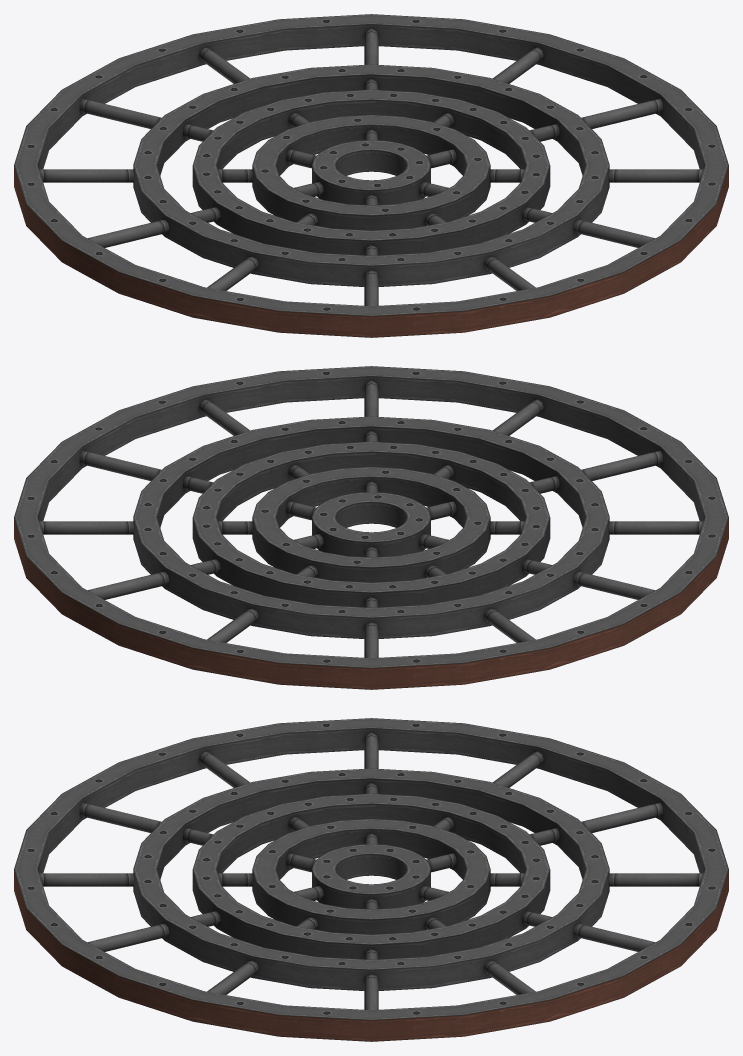
The model's file is canopus_fairing_s3_1.obj.
The picture shows the model from 3 angles, top to bottom: view 1: azimuth 30°, elevation 25°; view 2: azimuth 150°, elevation 25°; view 3: azimuth 270°, elevation 25°; orthographic projection.
Parts seen in each view (by area): view 1: mesh1; view 2: mesh1; view 3: mesh1.
Part boxes in pixels (left/top/right/bottom): mesh1: left=14, top=14, right=728, bottom=337; mesh1: left=14, top=366, right=728, bottom=689; mesh1: left=14, top=718, right=728, bottom=1041.
Bounding box in the file's own units: 3.75 × 0.125 × 3.75.
Materials: 1 (1 with a texture image).
